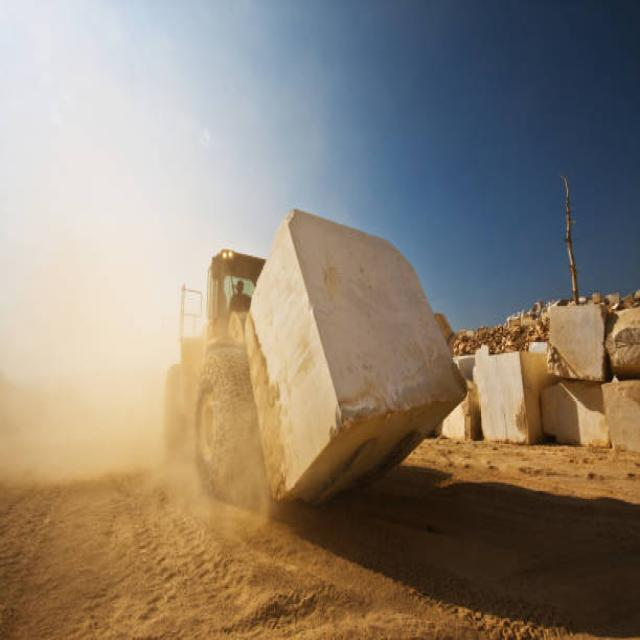Metamorphic: (242, 204, 469, 499), (473, 354, 542, 448)
